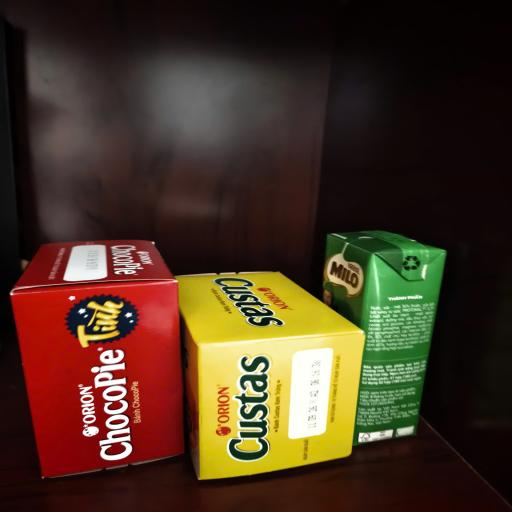chocopie: (10, 240, 185, 479)
custas: (175, 271, 365, 480)
milo: (322, 230, 447, 446)
